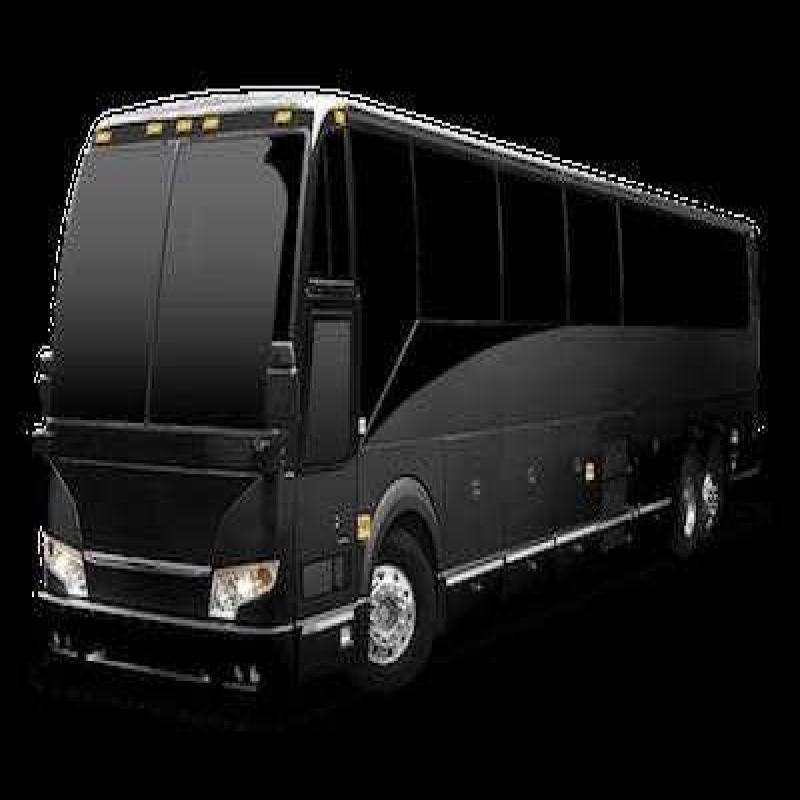bus: (45, 59, 772, 679)
